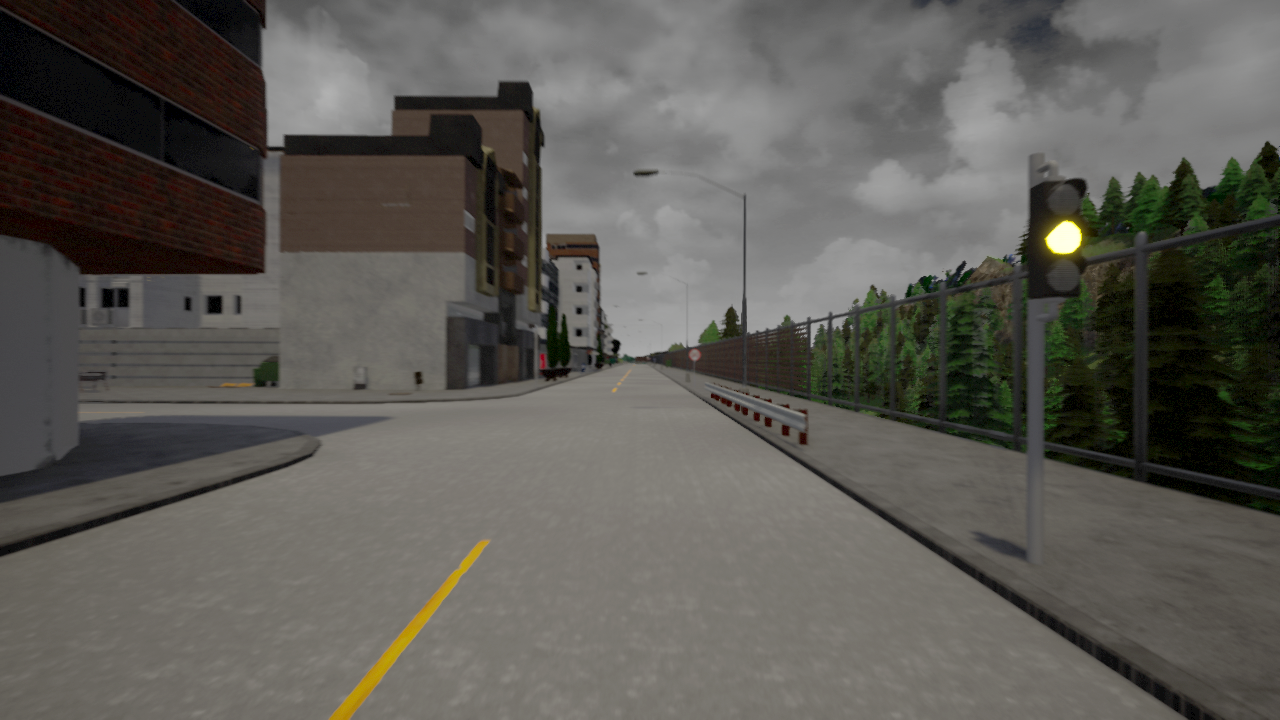yellow: (1030, 176, 1089, 298)
